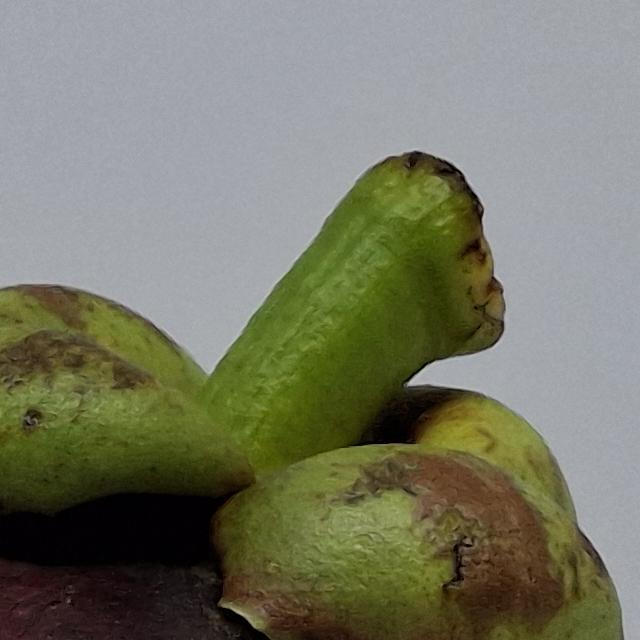mangosteen: (0, 115, 640, 640)
